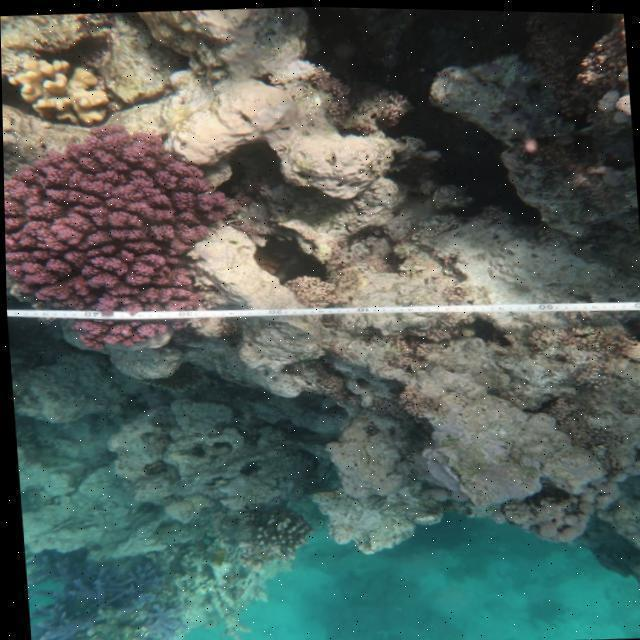Healthy Coral: (2, 118, 228, 368), (1, 41, 121, 136)
